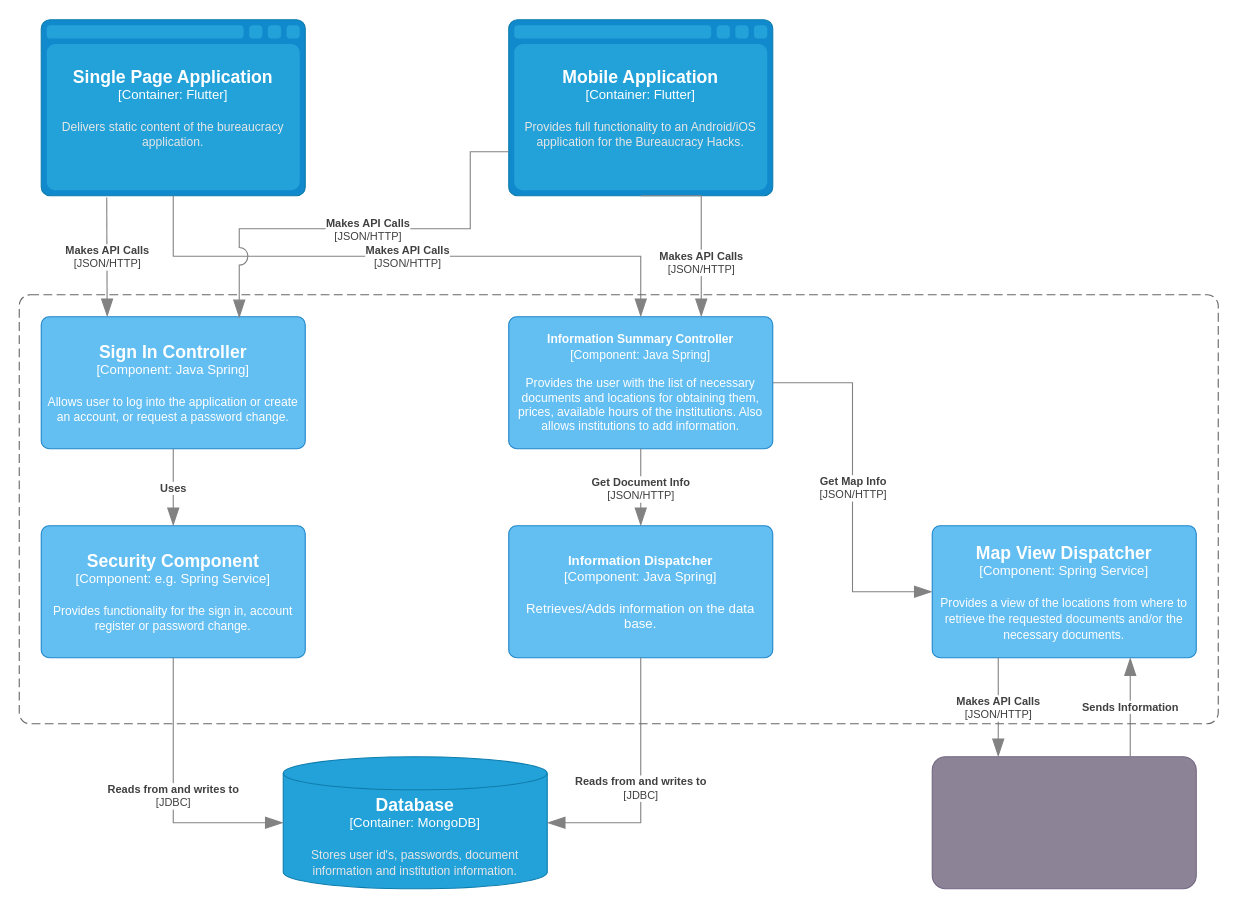
Image size: 1238x908. Some labels were removed from this diagram. Each missing label, with the box of its shape:
API Application [Container]: (18, 294, 1218, 724)
Google Maps [API] Provides Routes: (931, 756, 1196, 889)
